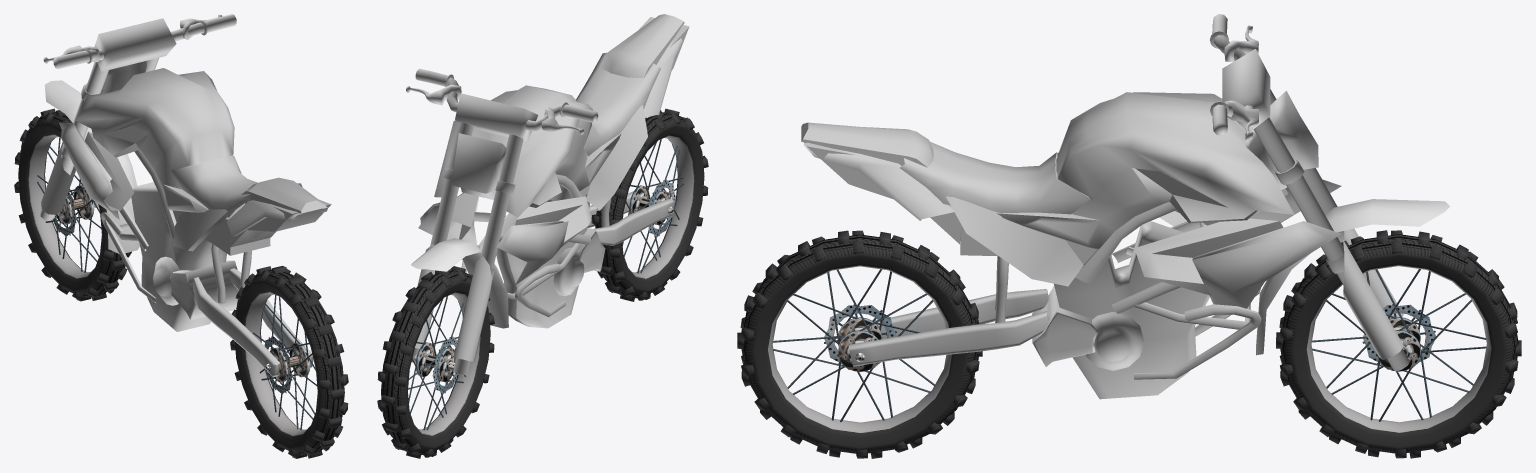
3 renders of one model, left to right at view 1: azimuth 30°, elevation 25°; view 2: azimuth 150°, elevation 25°; view 3: azimuth 270°, elevation 25°, orthographic. The views are drawn at different scales.
Visible parts, largest first — view 1: Plane001, Tyre1, Tyre, polySurface513, Plane002, polySurface512, polySurface514; view 2: Plane001, Tyre, Tyre1, Plane002, polySurface512, polySurface513; view 3: Plane001, Tyre1, Tyre, polySurface513, Plane002, polySurface512.
Boxes of the visible parts, x1,y1,x2,y2 form: Plane001: [40, 14, 331, 331]; Tyre1: [230, 266, 348, 458]; Tyre: [14, 108, 131, 301]; polySurface513: [193, 268, 313, 377]; Plane002: [44, 80, 139, 253]; polySurface512: [41, 142, 75, 214]; polySurface514: [211, 244, 251, 303]; Plane001: [406, 14, 689, 375]; Tyre: [377, 266, 494, 458]; Tyre1: [591, 108, 708, 301]; Plane002: [411, 238, 508, 328]; polySurface512: [415, 244, 492, 361]; polySurface513: [587, 191, 674, 245]; Plane001: [801, 14, 1409, 399]; Tyre1: [737, 230, 982, 458]; Tyre: [1276, 230, 1521, 458]; polySurface513: [848, 289, 1048, 366]; Plane002: [1256, 199, 1449, 355]; polySurface512: [1343, 228, 1403, 359].
Bounding box in the file's own units: 126 × 210 × 384.
